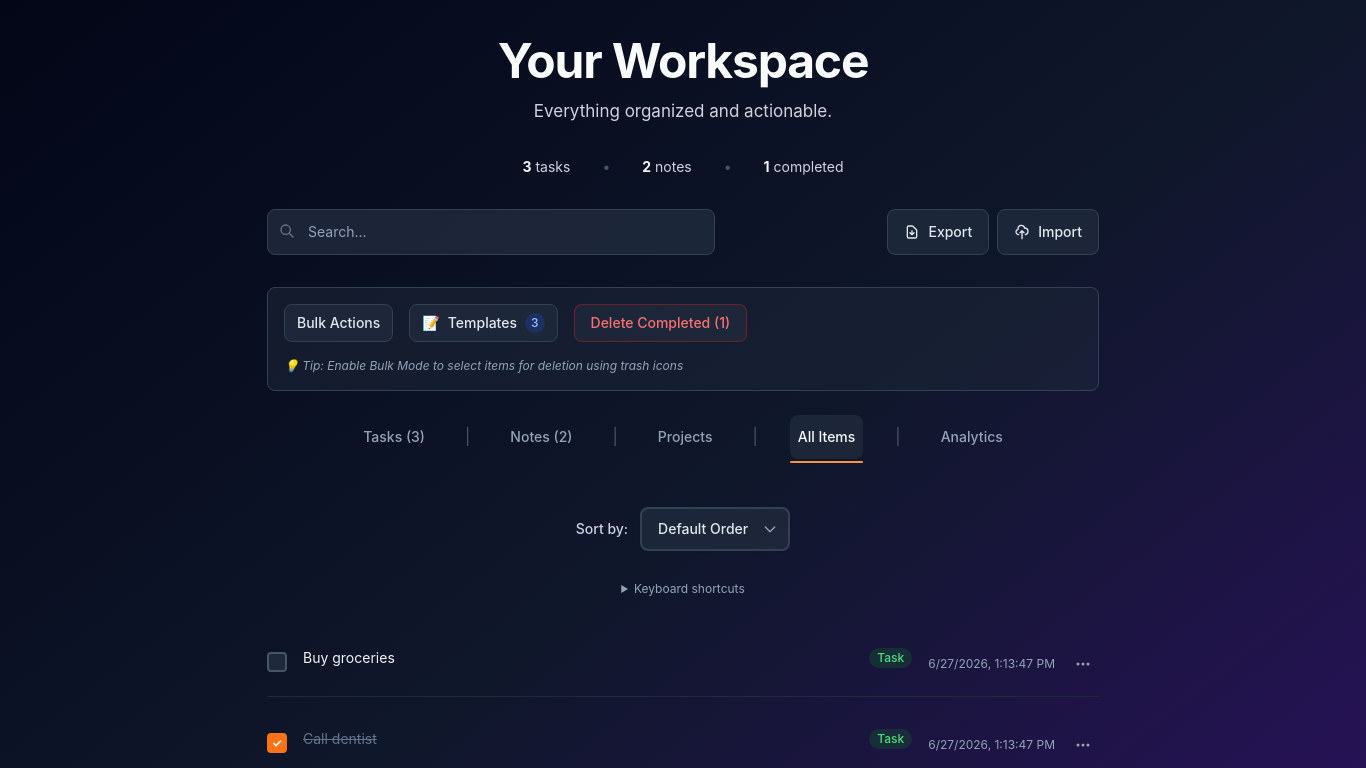
Test: OrganizedView Bulk Operations › select all button selects all visible items
This screenshot has width=1366, height=768.
# Enter bulk mode
Click the button "Bulk Actions" at (339, 323), box [284, 304, 393, 342]
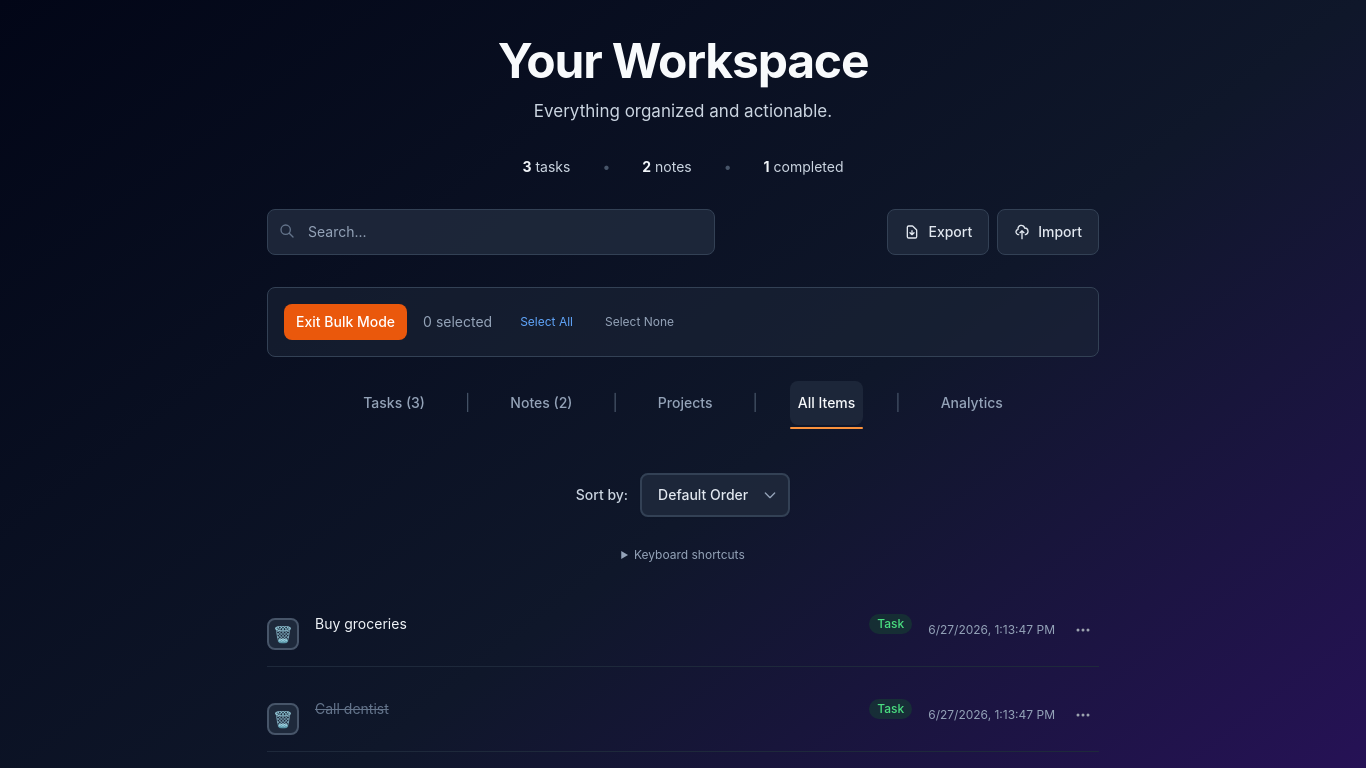
# Click select all
Click the button "Select All" at (547, 322), box [508, 310, 585, 334]
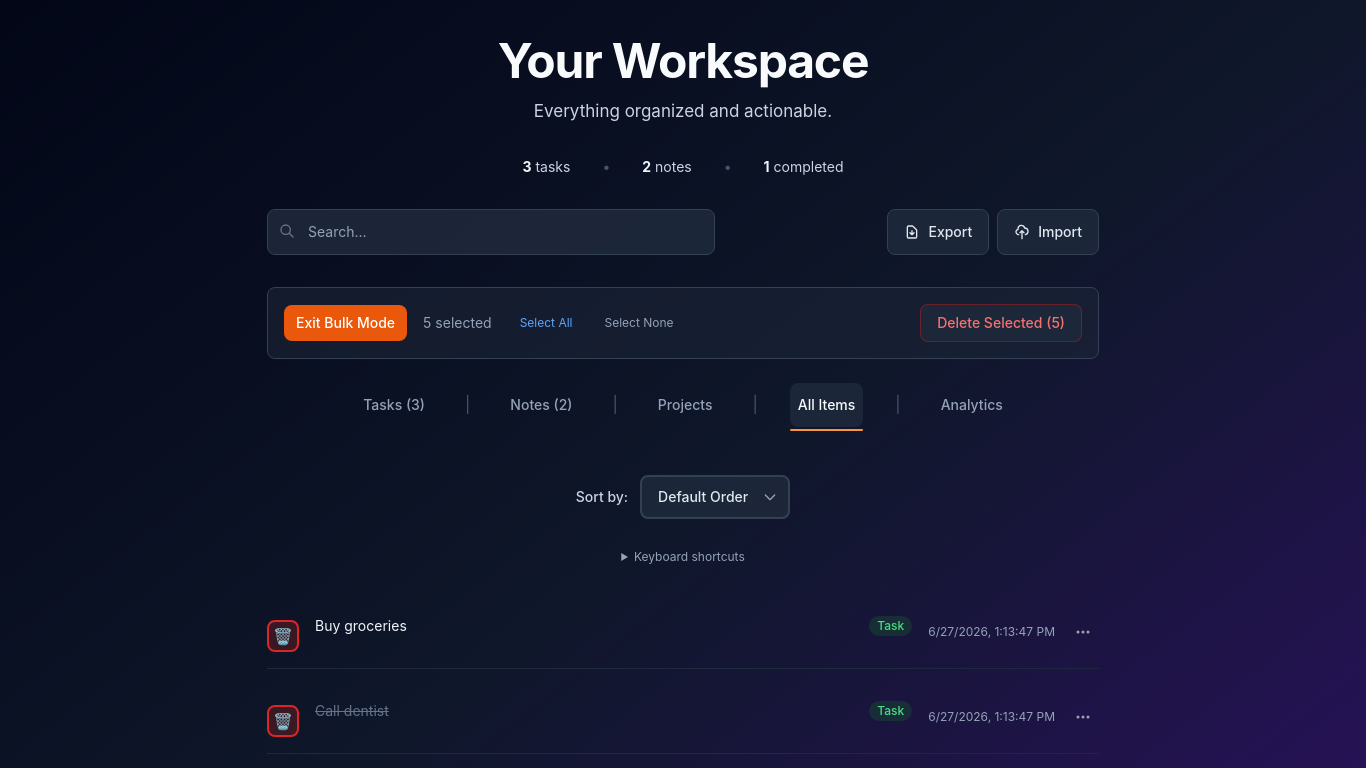
Result: the text "5 selected" is shown at [423, 313, 492, 333]
